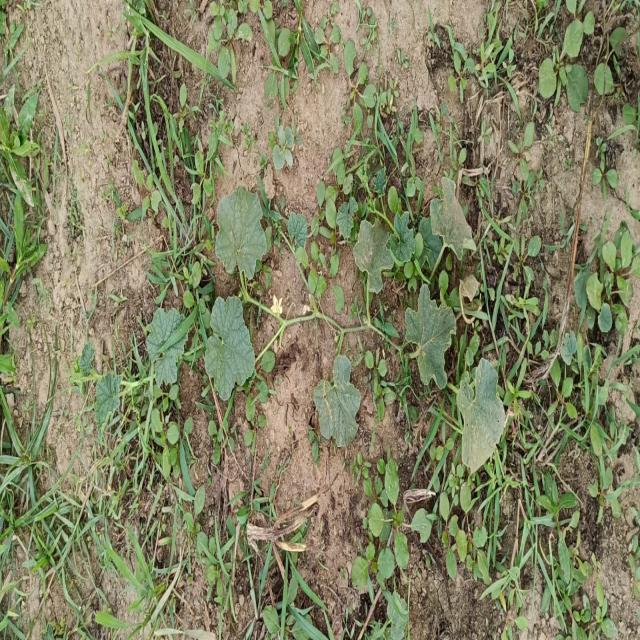plant: (352, 177, 475, 323), (215, 185, 268, 300), (405, 281, 456, 390), (204, 295, 256, 398), (458, 359, 505, 471), (314, 356, 360, 446), (148, 309, 199, 384), (96, 373, 119, 426), (335, 196, 358, 241), (289, 216, 308, 259), (80, 345, 92, 376)
